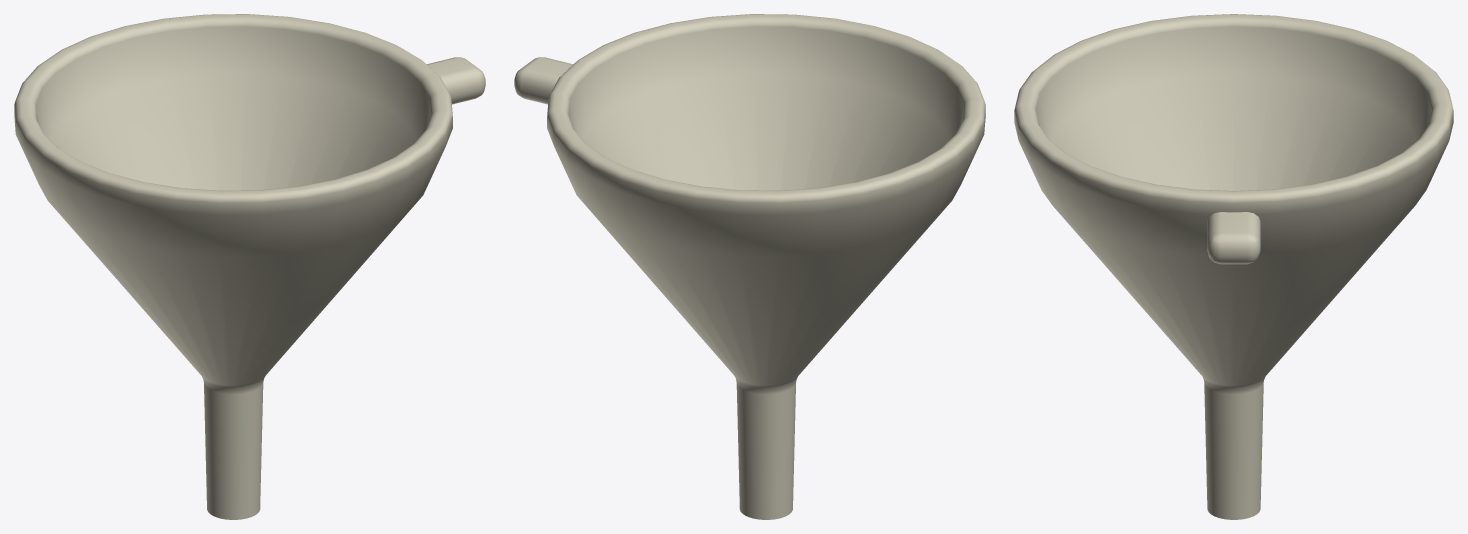
File: V10_ChemicalFunnel.fbx
3 renders of one model, left to right at view 1: azimuth 30°, elevation 25°; view 2: azimuth 150°, elevation 25°; view 3: azimuth 270°, elevation 25°, orthographic.
Visible parts, largest first — view 1: V10_ChemicalFunnel_CH09_Cream; view 2: V10_ChemicalFunnel_CH09_Cream; view 3: V10_ChemicalFunnel_CH09_Cream.
Boxes of the visible parts, x1,y1,x2,y2 form: V10_ChemicalFunnel_CH09_Cream: [14, 14, 485, 519]; V10_ChemicalFunnel_CH09_Cream: [514, 14, 985, 519]; V10_ChemicalFunnel_CH09_Cream: [1014, 14, 1453, 519].
Bounding box in the file's own units: 15.05 × 13.4 × 13.2.
